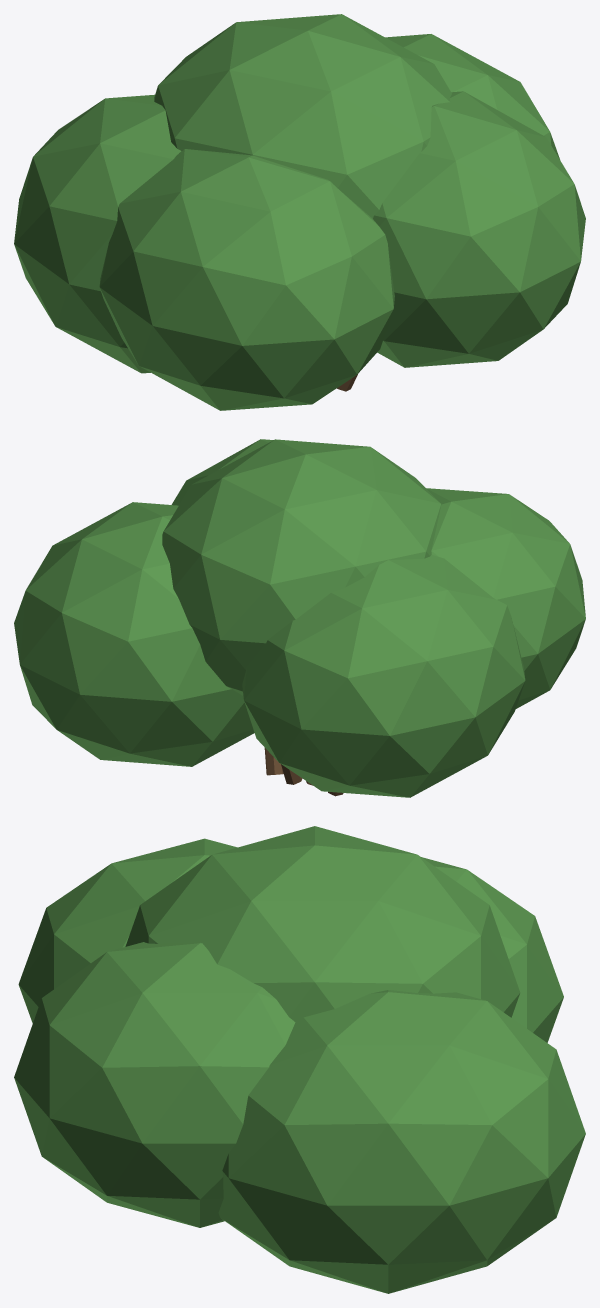
The model's file is bush.glb.
3 renders of one model, top to bottom at view 1: azimuth 30°, elevation 25°; view 2: azimuth 150°, elevation 25°; view 3: azimuth 270°, elevation 25°, orthographic. The views are drawn at different scales.
Parts seen in each view (by area): view 1: bush; view 2: bush; view 3: bush.
Part boxes in pixels (bbox=[...]): bush: bbox=[14, 14, 585, 410]; bush: bbox=[14, 439, 585, 797]; bush: bbox=[14, 826, 585, 1293].
Bounding box in the file's own units: 1.37 × 0.9533 × 1.24.
